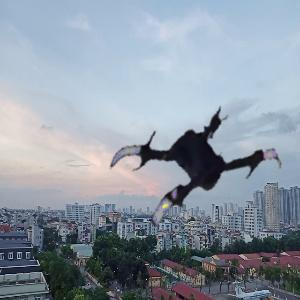drone: (107, 89, 281, 263)
